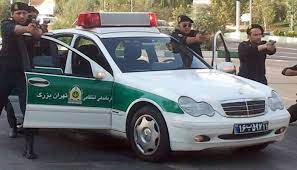car: (231, 120, 269, 136)
